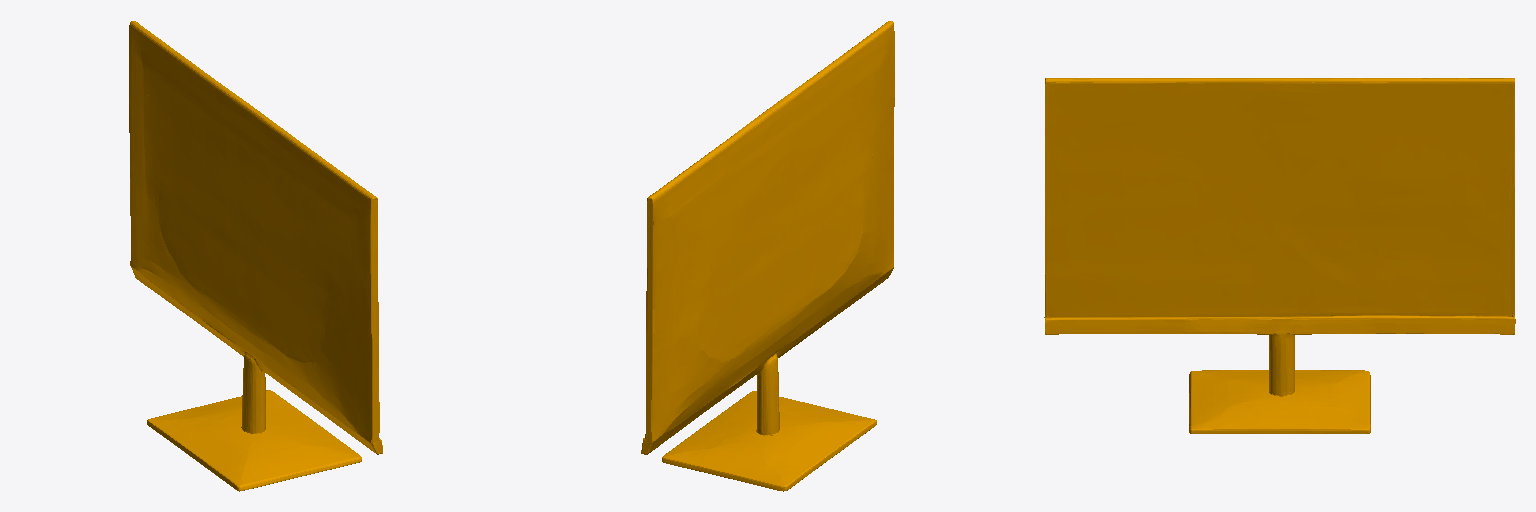
robot.urdf — sample:
<?xml version="1.0" ?>
<robot name="sample">
   <link name="sample">
      <visual>
         <origin xyz="0 0 0" rpy="1.5708 0.0 0.0"/>
         <geometry>
            <mesh filename="mesh/sample.obj" scale="1.0 1.0 1.0"/>
         </geometry>
      </visual>
      <collision>
         <origin xyz="0 0 0" rpy="1.5708 0.0 0.0"/>
         <geometry>
            <mesh filename="mesh/sample_collision.obj" scale="1.0 1.0 1.0"/>
         </geometry>
         <gazebo>
            <mu1>0.70</mu1>
            <mu2>0.50</mu2>
         </gazebo>
      </collision>
      <inertial>
         <mass value="5.0000"/>
         <origin xyz="0 0 0"/>
         <inertia ixx="1.0" ixy="0.0" ixz="0.0" iyy="1.0" iyz="0.0" izz="1.0"/>
      </inertial>
      <extra_info>
         <scale>0.720649</scale>
         <version>v0.1.7</version>
         <category>computer monitor</category>
         <description>flat-screen display with stand and colorful screen</description>
         <min_height>0.5</min_height>
         <max_height>0.6</max_height>
         <real_height>0.55</real_height>
         <min_mass>4.0</min_mass>
         <max_mass>6.0</max_mass>
         <color>black</color>
         <rgba>[0.1, 0.1, 0.1, 1.0]</rgba>
         <generate_time>20260518154902</generate_time>
         <gs_model>mesh/sample_gs.ply</gs_model>
      </extra_info>
   </link>
   <custom_data>
      <quality>
         <MeshGeoChecker>YES</MeshGeoChecker>
         <ImageSegChecker>NO, object is not fully extracted, base is truncated and background artifacts remain.</ImageSegChecker>
         <ImageAestheticChecker>4.989647626876831</ImageAestheticChecker>
         <overall>NO</overall>
      </quality>
   </custom_data>
</robot>

--- Facts derived from the render (not from the file) ---
The picture shows the robot from 3 angles, left to right: view 1: azimuth 30°, elevation 25°; view 2: azimuth 150°, elevation 25°; view 3: azimuth 270°, elevation 25°; orthographic projection.
Model sample with 1 links and 0 joints (none), rooted at sample, posed all joints at 0.
Links seen in each view (by area): view 1: sample; view 2: sample; view 3: sample.
Link boxes in pixels (x1,y1,x2,y2): sample: (129, 21, 382, 491); sample: (641, 21, 894, 491); sample: (1044, 78, 1515, 433).
Size in the robot's own frame: 0.215 by 0.7206 by 0.55 metres.
1 mesh visuals loaded from 1 distinct referenced files (1 OBJ).
